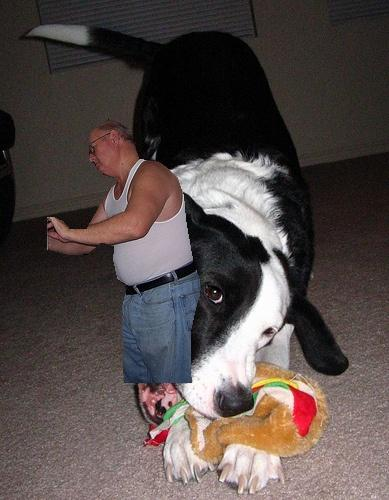tampered: (48, 120, 200, 383)
